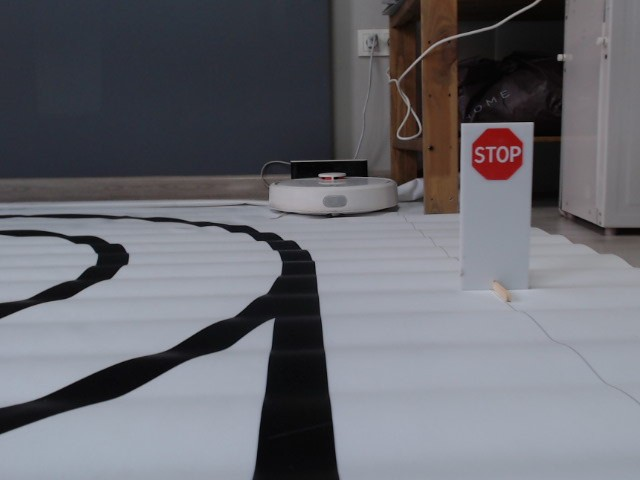Stop: (467, 125, 524, 181)
